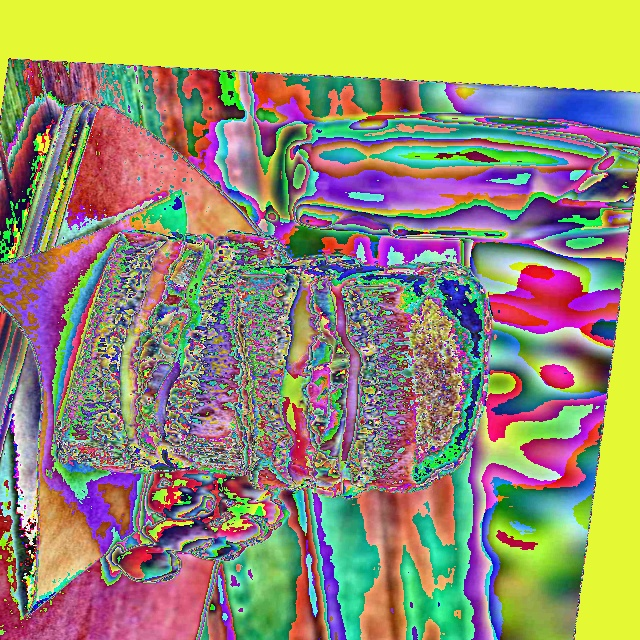background: (55, 230, 492, 582)
